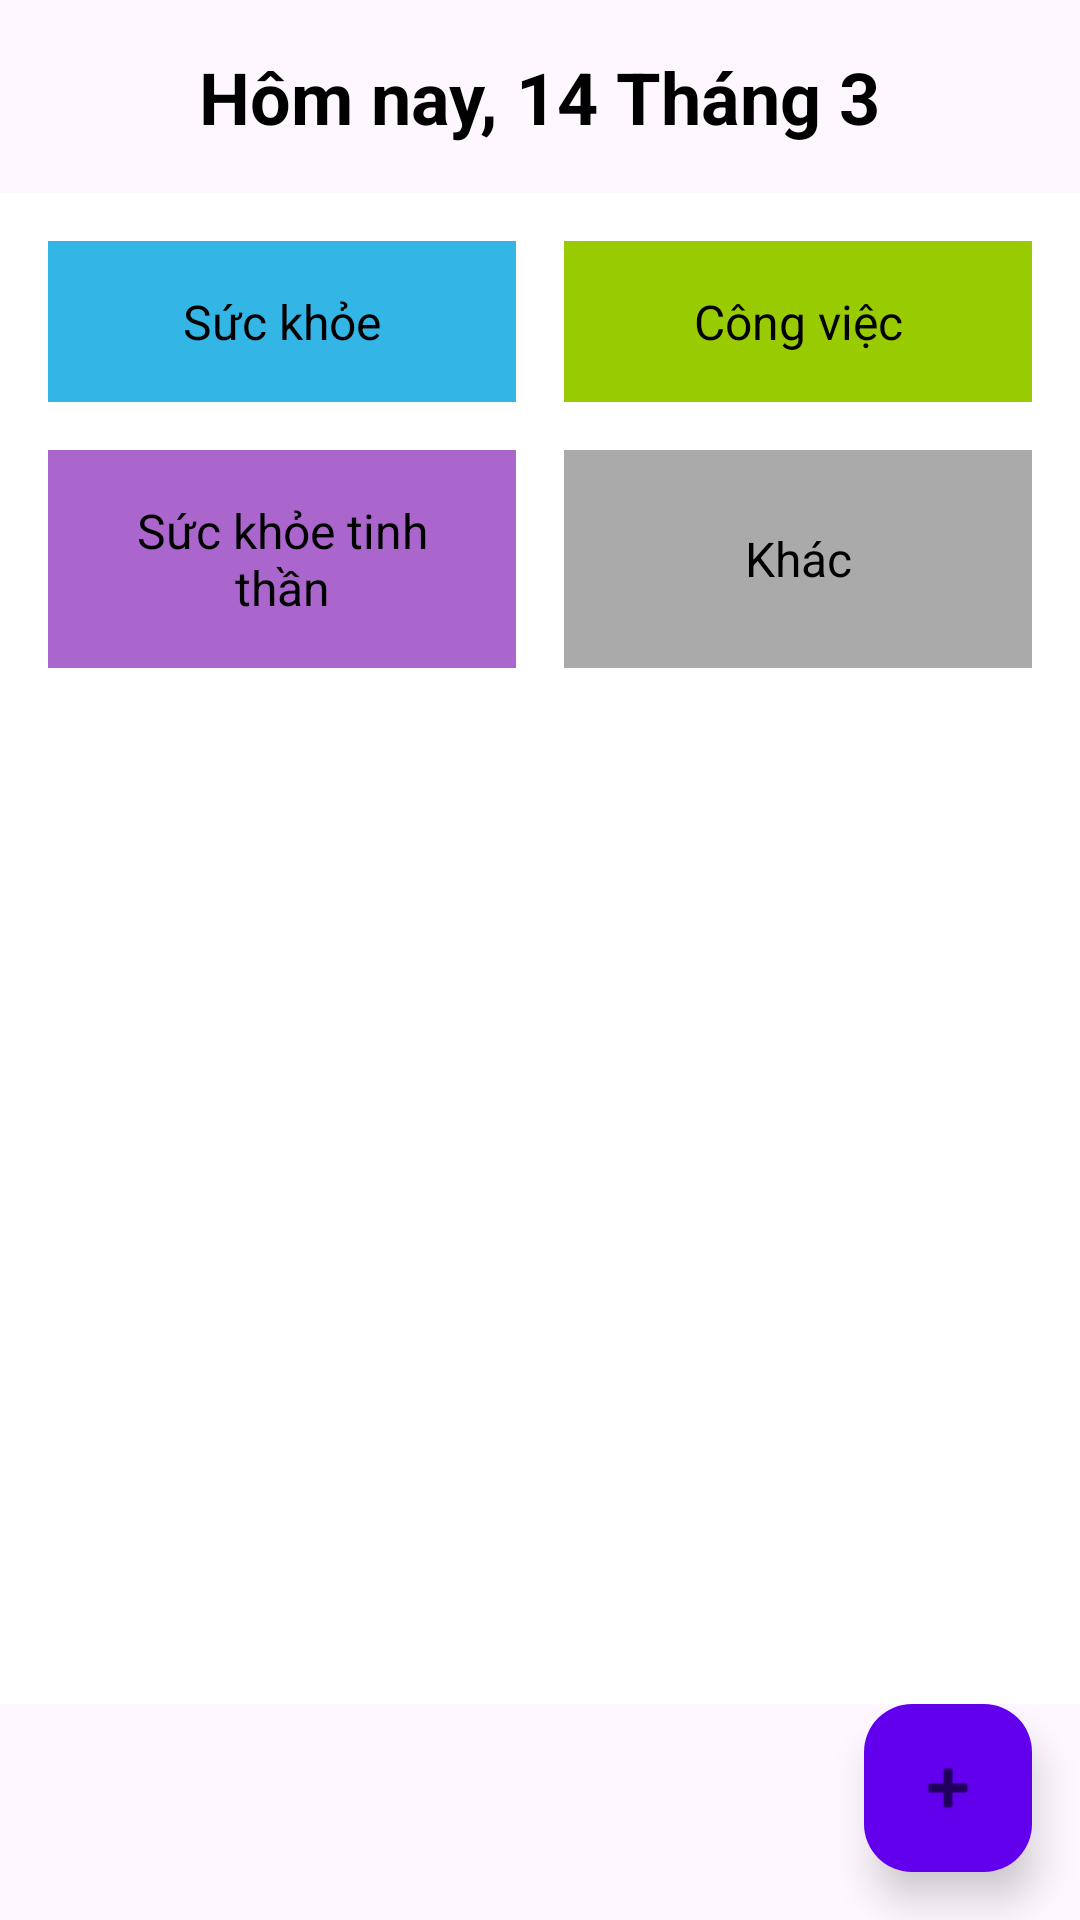

Locate icon controls on the screen. Image size 1080px×1920px, boxes as (x1, y1, x2, y2).
Thêm công việc: (864, 1704, 1032, 1872)
